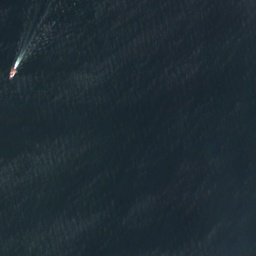Ship: (9, 74, 12, 78)
